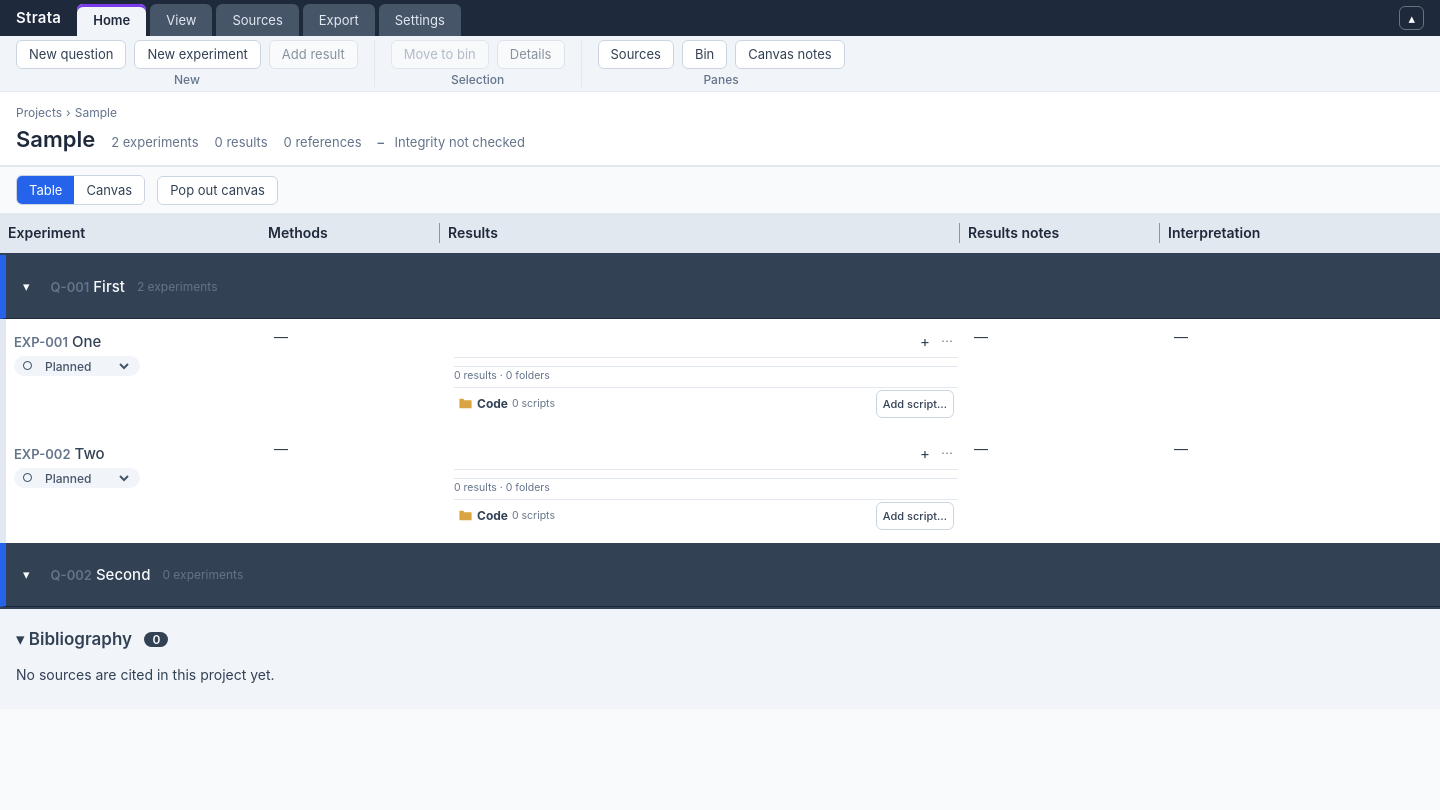
Move to bin in the Home tab › is enabled once an experiment is selected, and nothing moves until it is confirmed
What coordinates should you click on to do the following:
click the button "EXP-001 One"
I would click on:
 (58, 341)
Its box is [14,327,101,355].
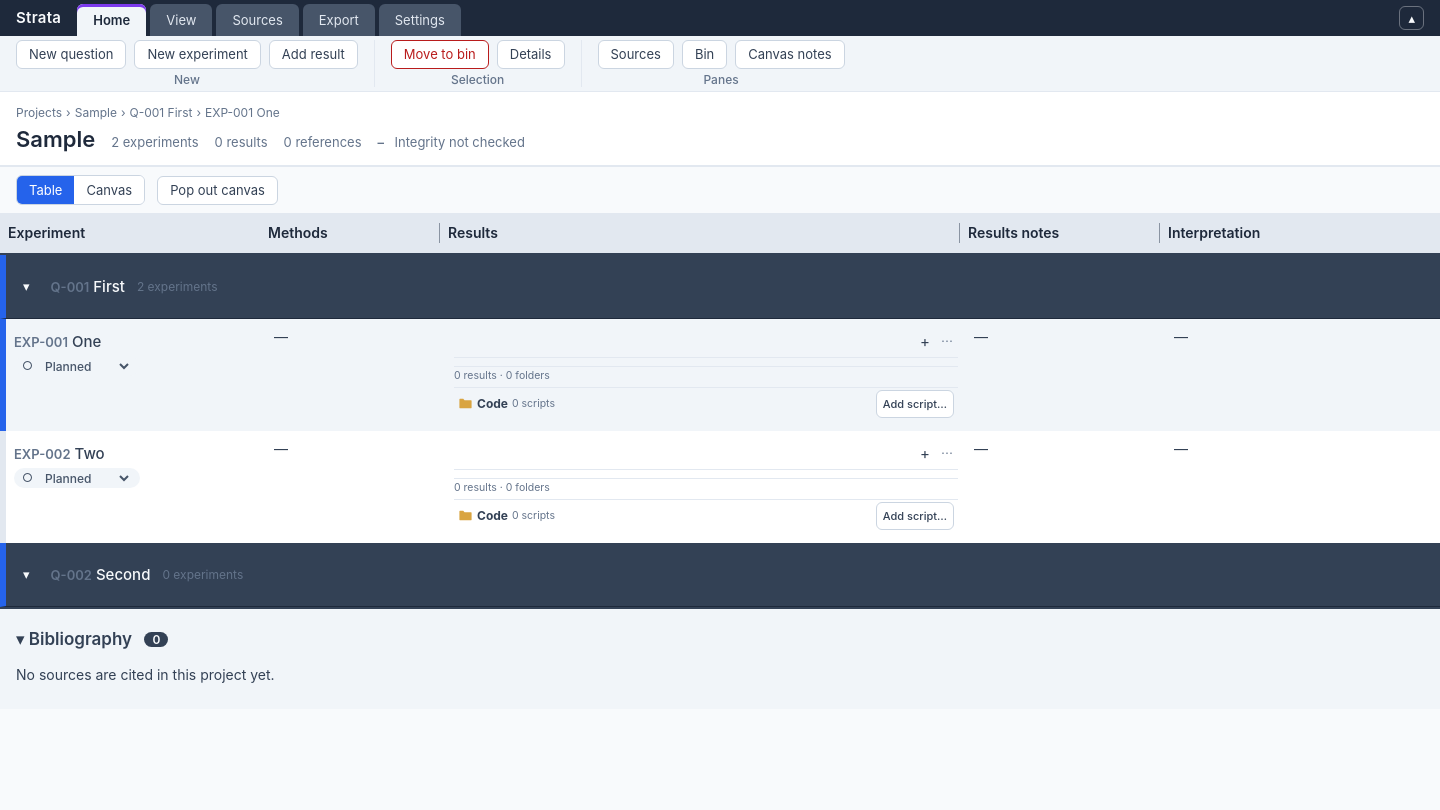
Expected: the button "Move to bin" is enabled
What coordinates should you click on to do the following:
click the button "Move to bin"
I would click on:
 (440, 54)
Its box is [391,40,489,69].
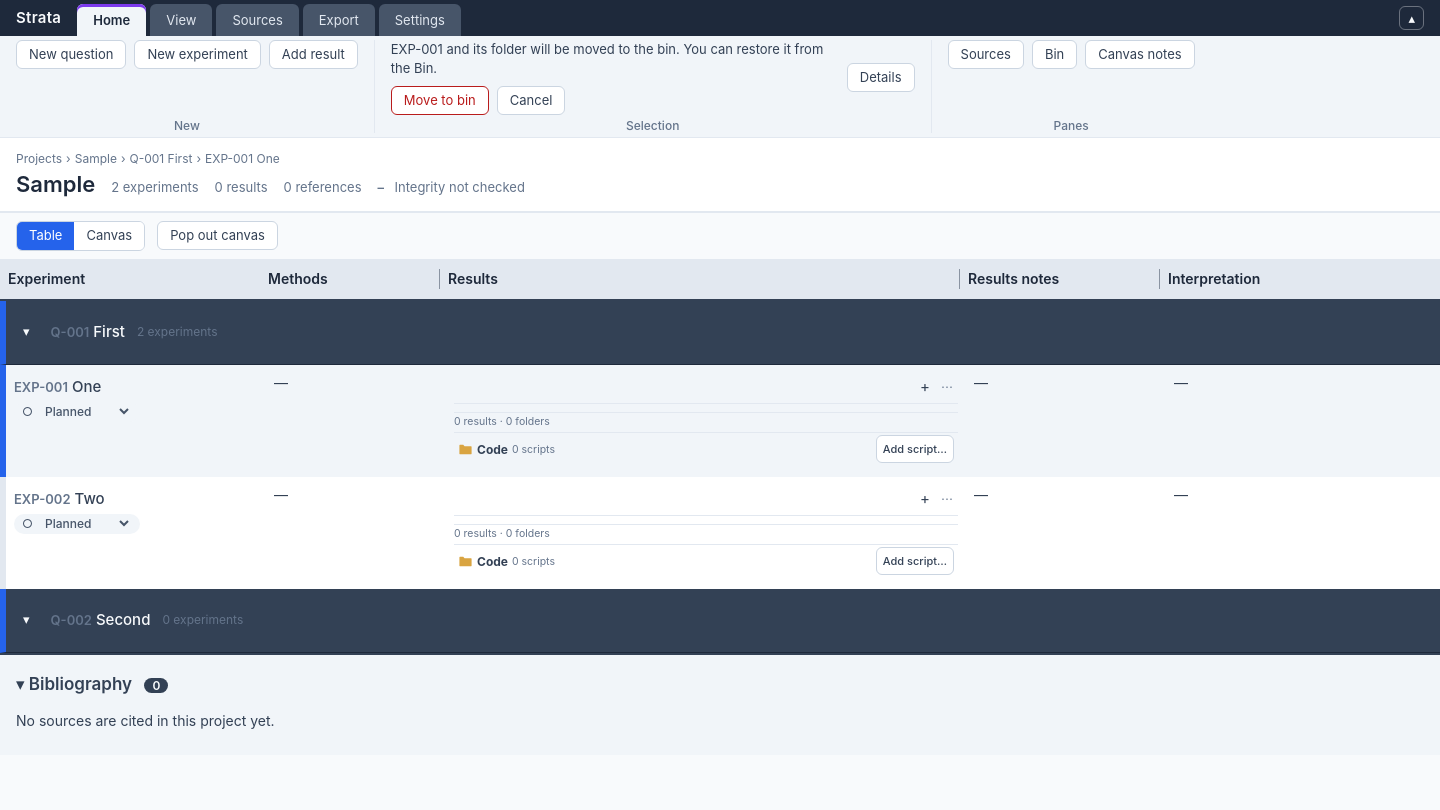
Expected: the element named "Ribbon" shows "EXP-001", [391,41,823,76]
Expected: the element named "Ribbon" shows "restore it from the Bin", [391,41,823,76]
